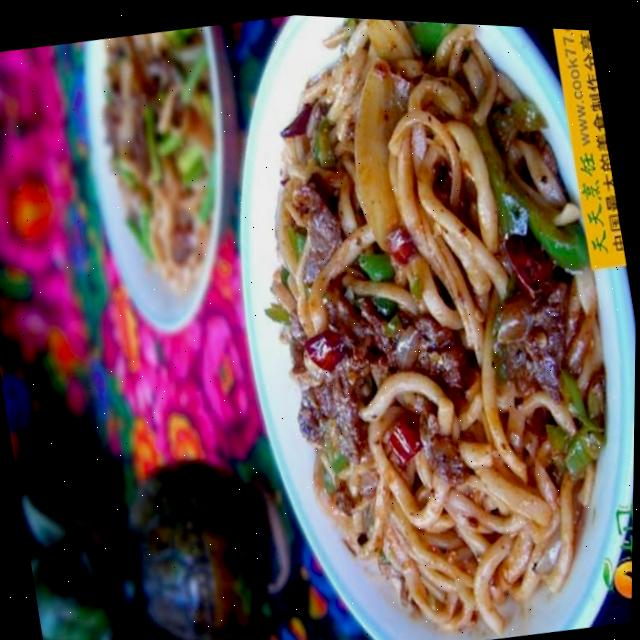面条主食: (169, 7, 640, 640)
